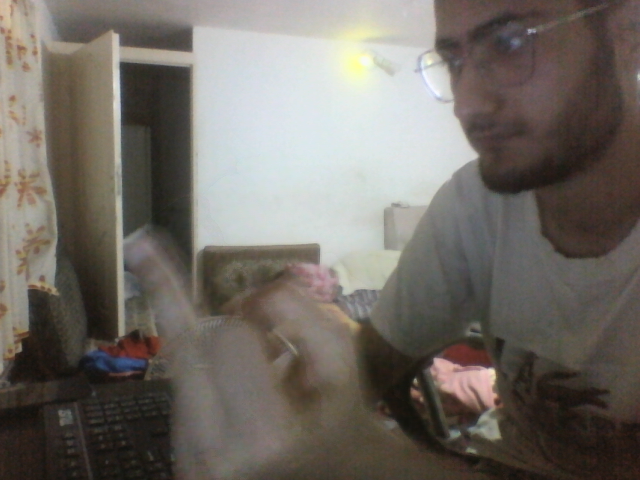fuck: (123, 229, 366, 479)
